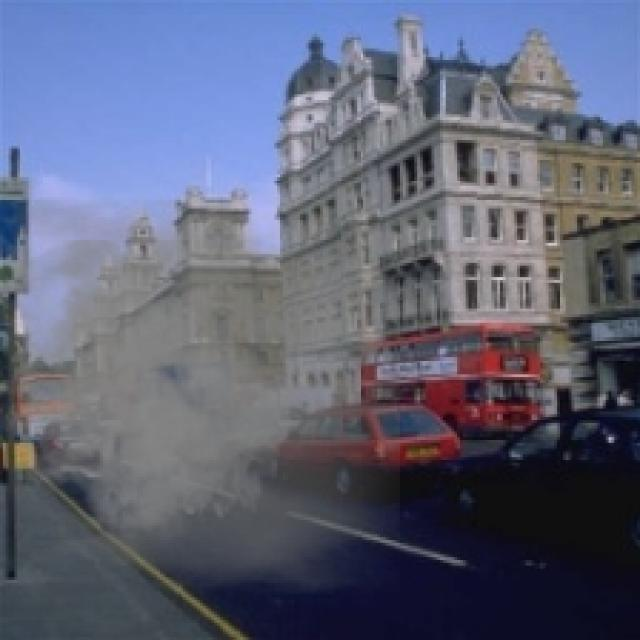Smoke: (0, 197, 400, 594)
